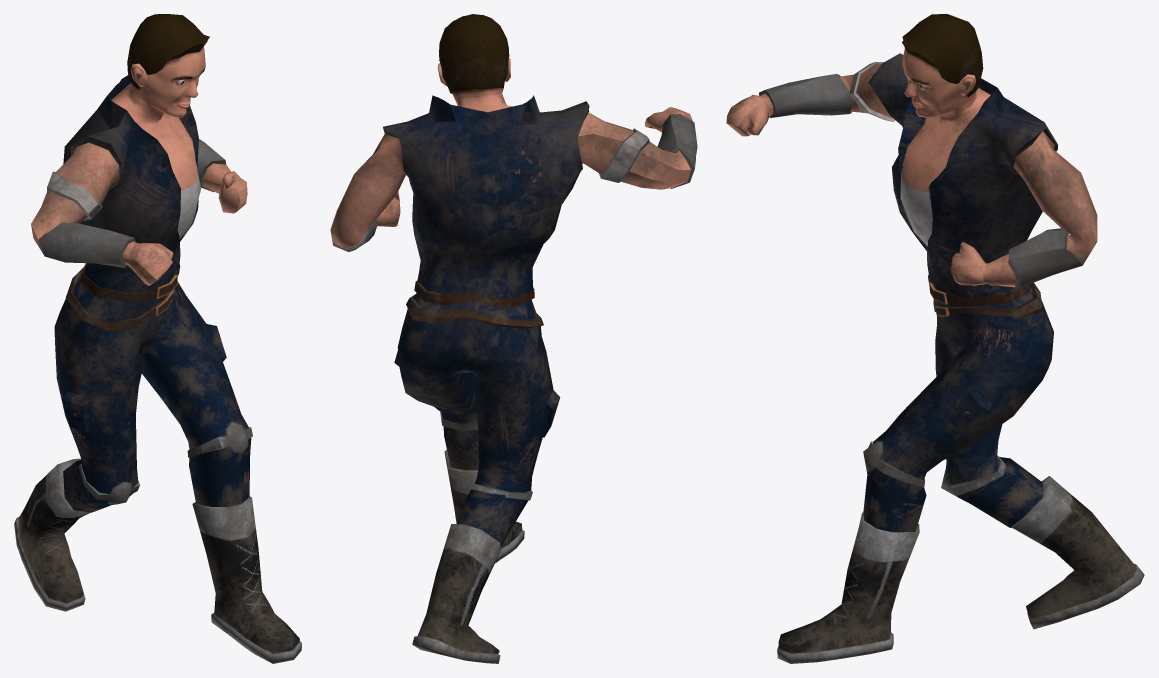
The model's file is Anim_ataque_d1_jugador.0020.obj.
The picture shows the model from 3 angles, left to right: view 1: azimuth 30°, elevation 25°; view 2: azimuth 150°, elevation 25°; view 3: azimuth 270°, elevation 25°; orthographic projection. The views are drawn at different scales.
Visible parts, largest first — view 1: polySurface1; view 2: polySurface1; view 3: polySurface1.
Boxes of the visible parts, x1,y1,x2,y2 form: polySurface1: [14, 14, 301, 663]; polySurface1: [330, 14, 697, 663]; polySurface1: [726, 14, 1144, 663].
Size of the model in its own units: 4.23 by 9.13 by 5.47.
